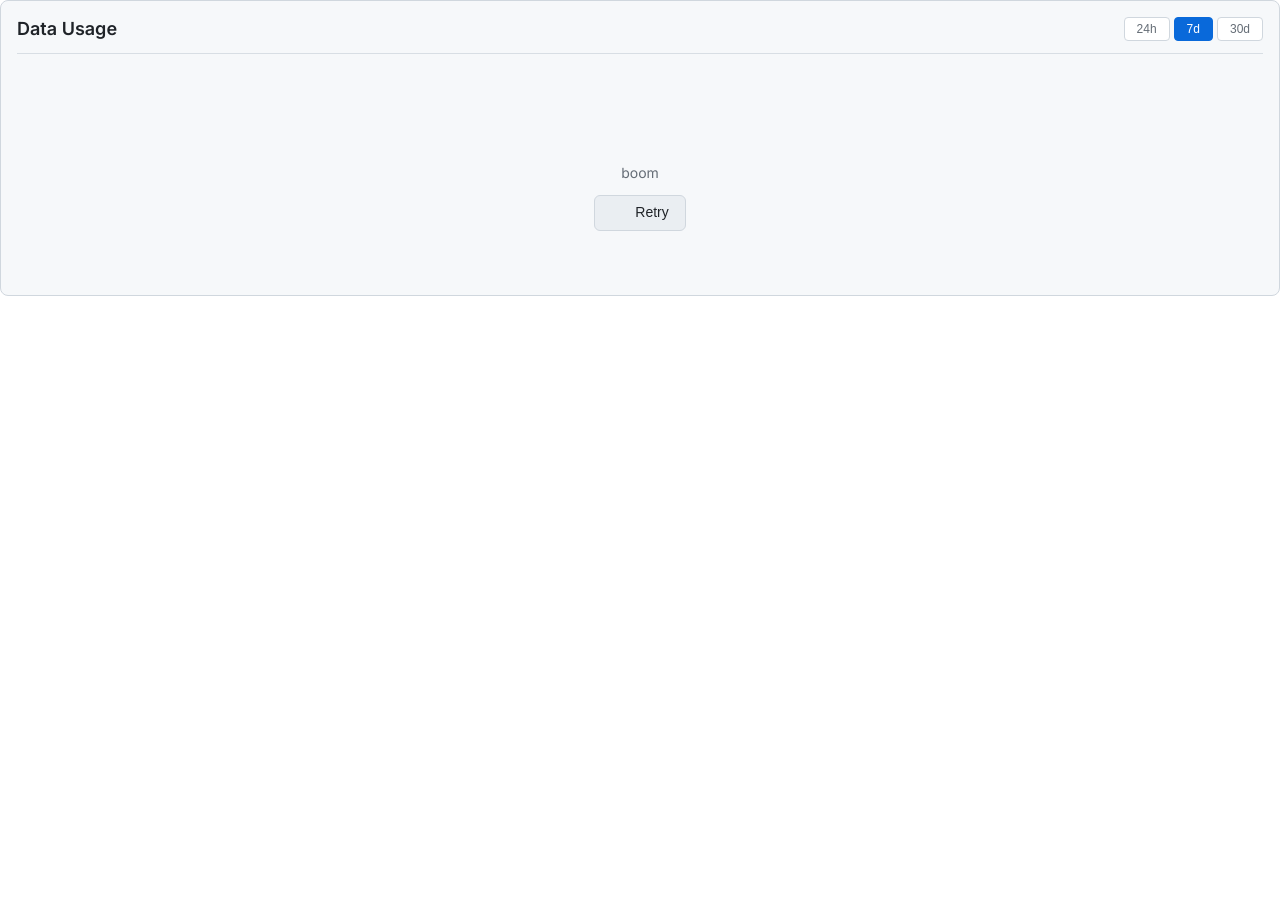
DataUsageCard › renders ErrorState with a working retry on a 5xx
This screenshot has width=1280, height=900.
Expected: the message "boom Retry" is shown, [594,118,686,231]
Step 1. Click the button "Retry" → (640, 213), box [594,195,686,231]
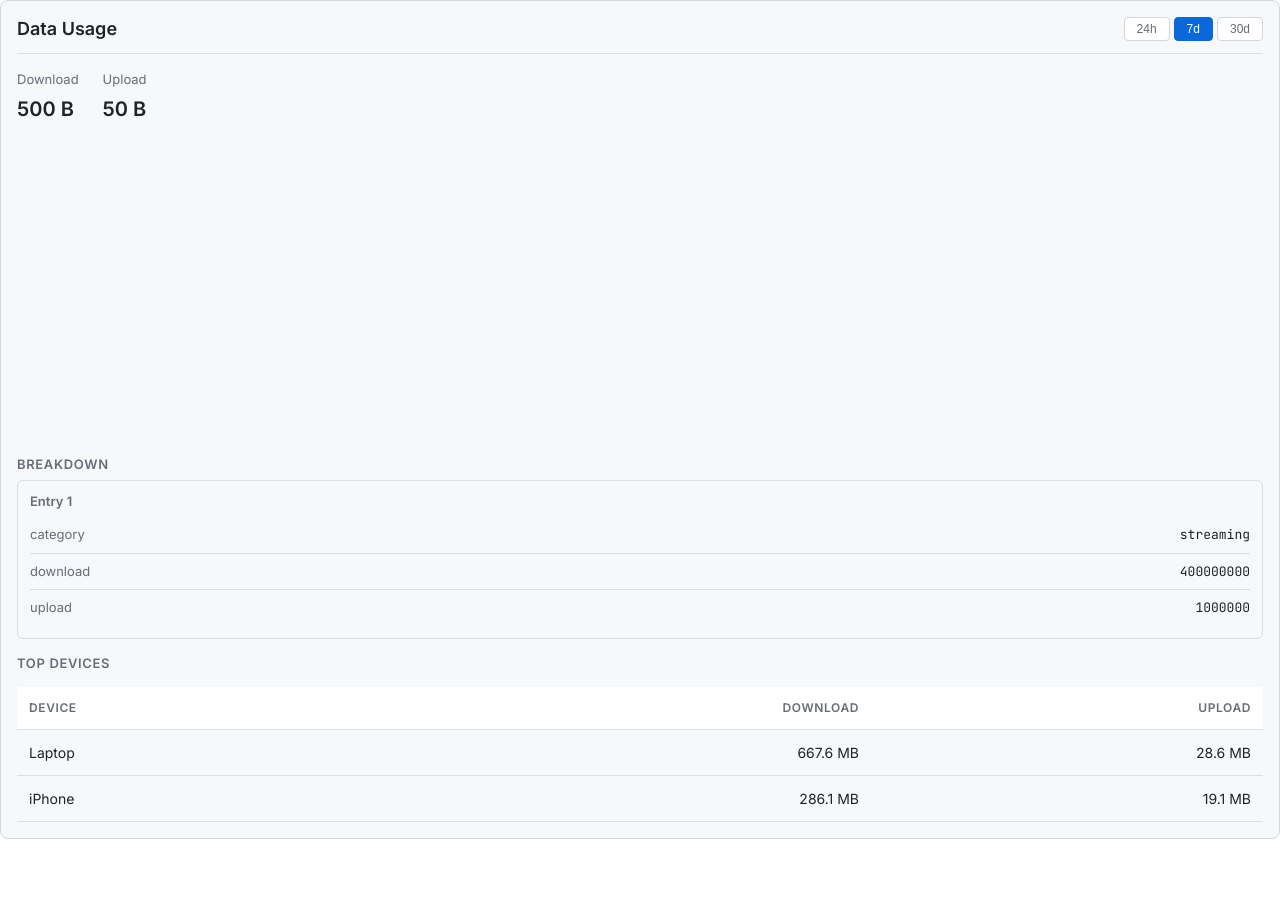
Expected: the text "500 B" is shown, [17,94,79,124]
